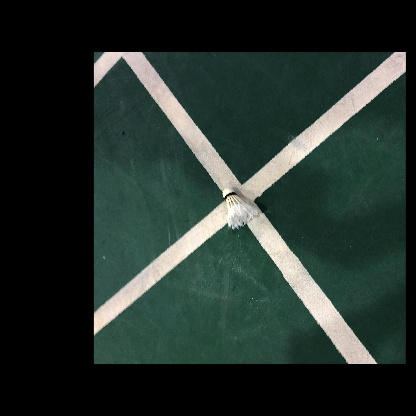ball_single: (222, 188, 258, 230)
